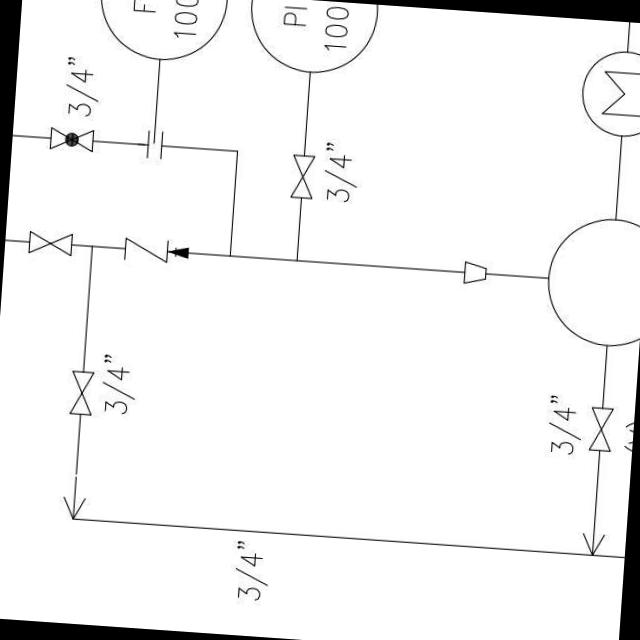BV2: (41, 120, 100, 156)
GV: (582, 399, 620, 456), (66, 363, 100, 423), (21, 226, 78, 260), (283, 151, 318, 199)
M: (572, 47, 640, 139)
SP: (456, 258, 492, 284)
